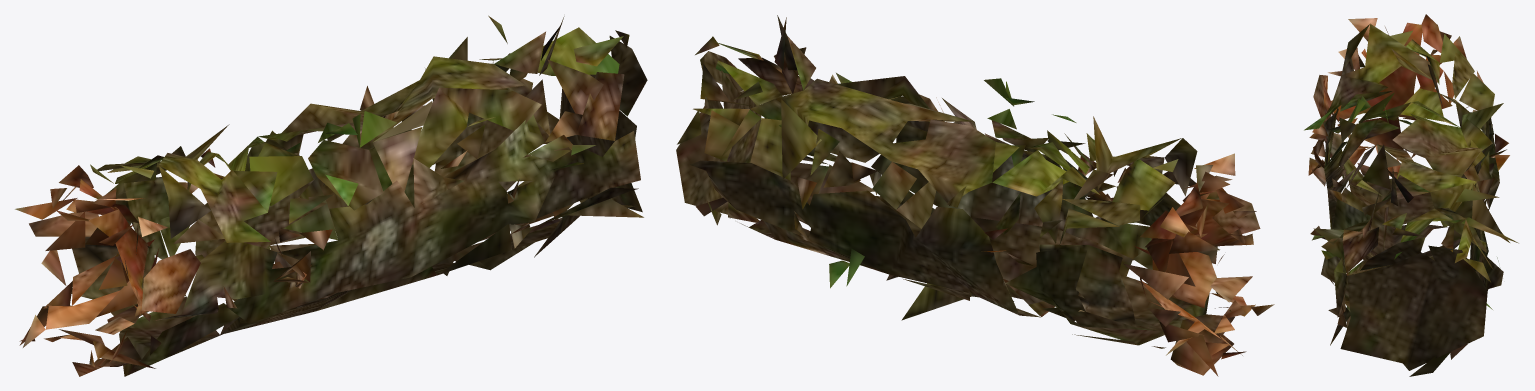
Rendered from tronco_lod2.glb.
3 views of the same model, side by side, from view 1: azimuth 30°, elevation 25°; view 2: azimuth 150°, elevation 25°; view 3: azimuth 270°, elevation 25° (orthographic). The views are drawn at different scales.
Parts seen in each view (by area): view 1: tronco; view 2: tronco; view 3: tronco.
Part boxes in pixels (x1,y1,x2,y2): tronco: (15, 15, 647, 376); tronco: (676, 15, 1274, 376); tronco: (1304, 14, 1518, 376).
Size of the model in its own units: 4.03 by 1.68 by 1.48.
Materials: 1 (1 with a texture image).
